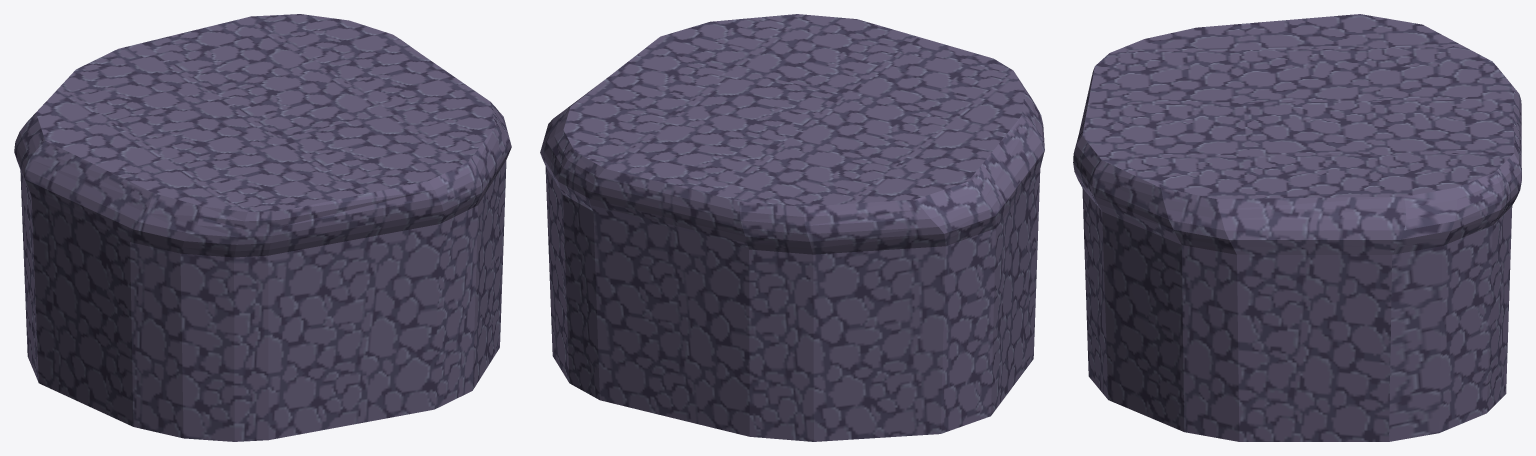
The picture shows the model from 3 angles, left to right: view 1: azimuth 30°, elevation 25°; view 2: azimuth 150°, elevation 25°; view 3: azimuth 270°, elevation 25°; orthographic projection.
Parts seen in each view (by area): view 1: 立方体; view 2: 立方体; view 3: 立方体.
Part boxes in pixels (bbox=[...]): 立方体: bbox=[14, 14, 511, 441]; 立方体: bbox=[540, 14, 1044, 441]; 立方体: bbox=[1073, 14, 1521, 441].
Size of the model in its own units: 723 by 385 by 662.
1 material, 1 textured.
